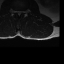CCS_normal: (18, 9, 20, 17)
LFS_stenosis: (22, 9, 24, 14)
LLS_stenosis: (20, 9, 22, 15)
RFS_stenosis: (14, 9, 16, 14)
RLS_stenosis: (16, 9, 18, 15)
